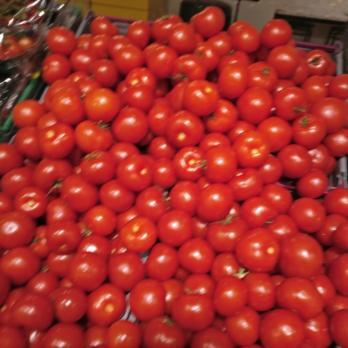Tomato: (36, 10, 348, 346)
